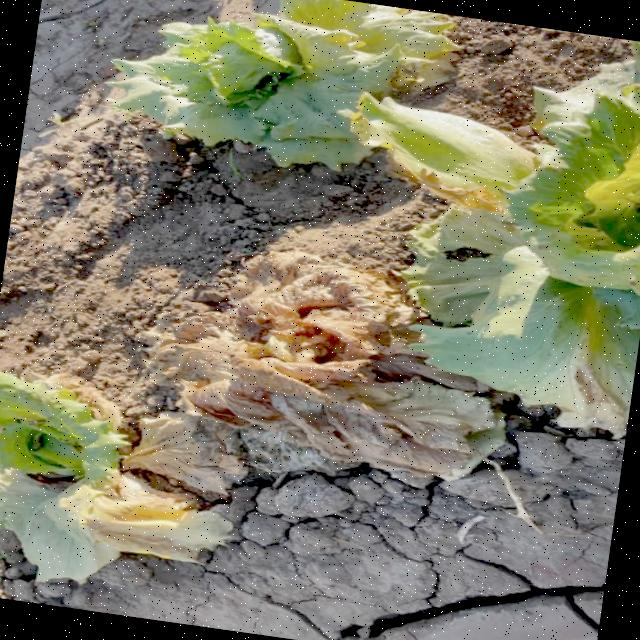Wilt_and_leaf_blight_on_lettuce: (196, 267, 426, 439), (20, 394, 239, 568), (337, 96, 542, 236), (220, 0, 435, 107)
